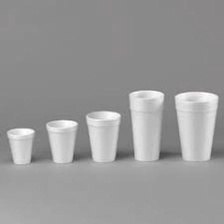paper_cup: (171, 86, 221, 165), (125, 86, 168, 165), (82, 107, 123, 166), (43, 117, 82, 166), (3, 124, 38, 167)
